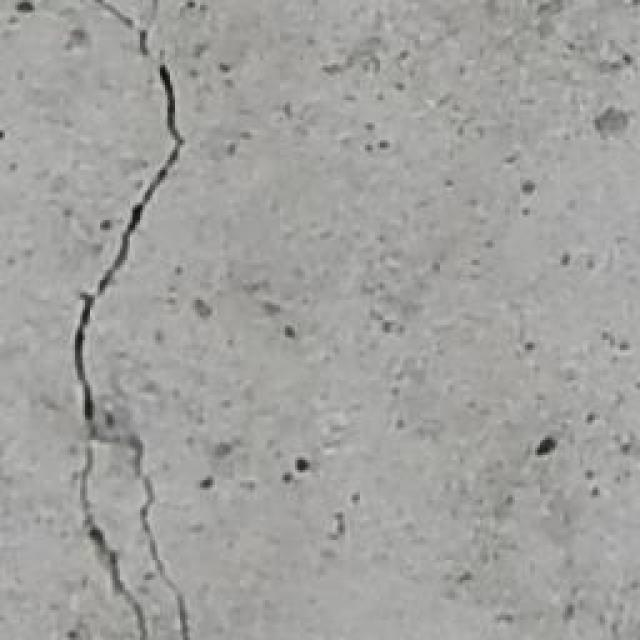concrete-crack: (66, 1, 198, 640)
